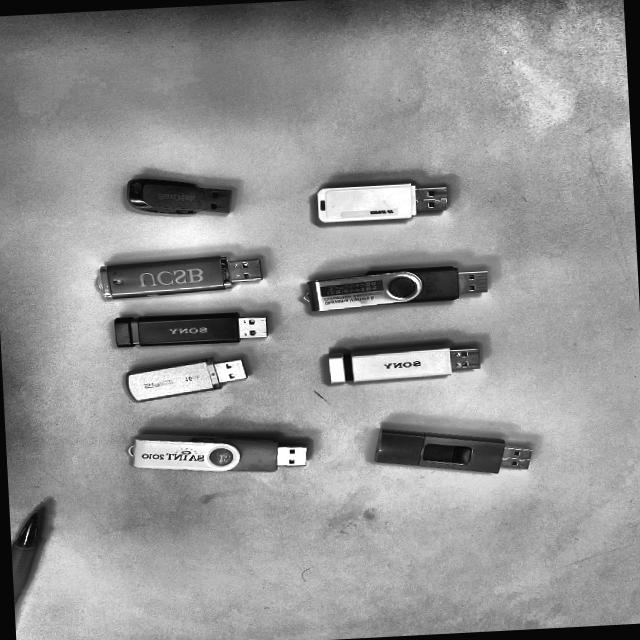Mug: (120, 411, 322, 490), (82, 235, 288, 307)
